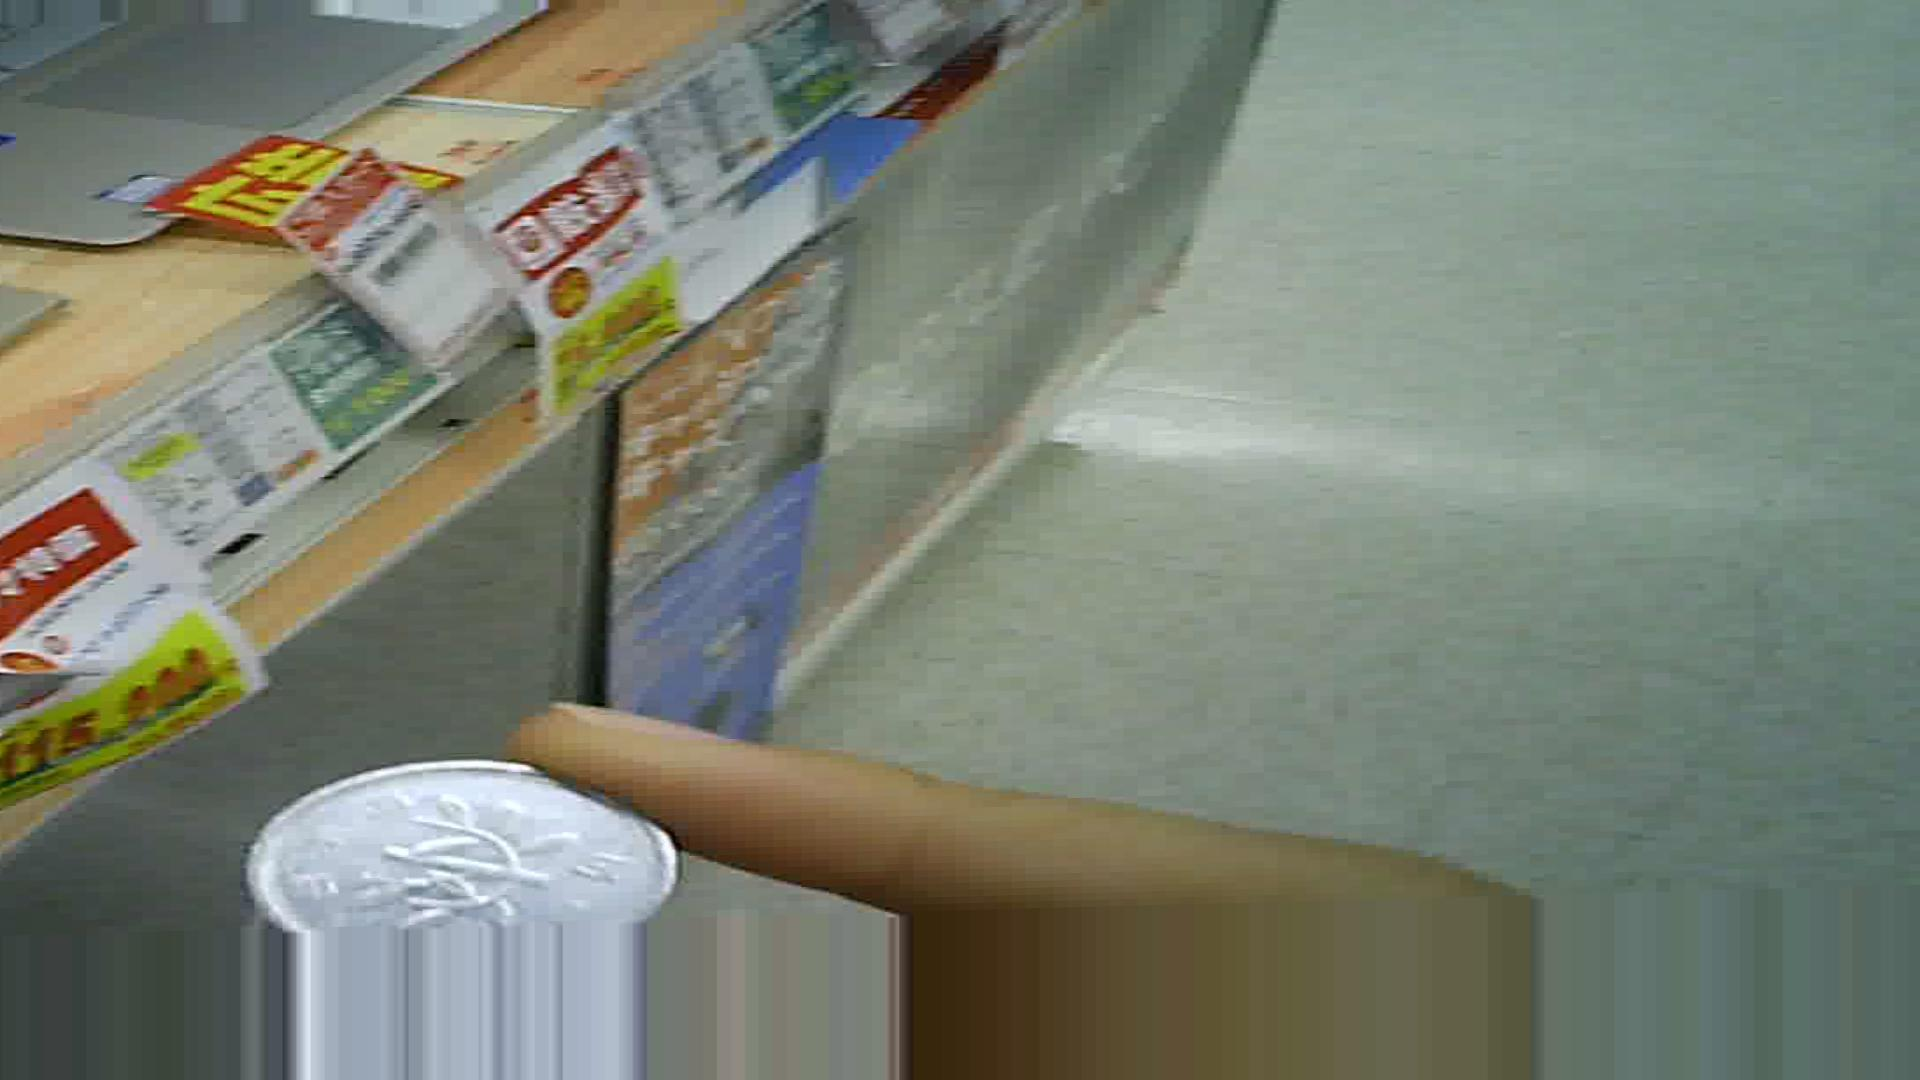1 Yen: (241, 757, 684, 938)
